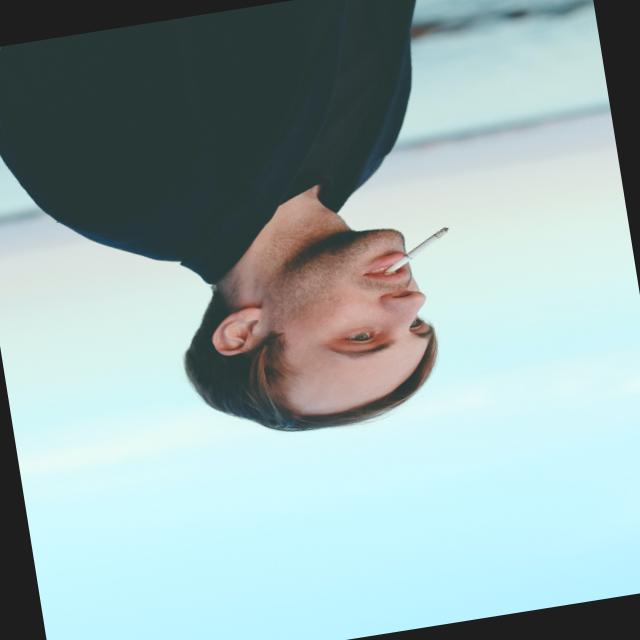cigarette: (375, 181, 507, 278)
